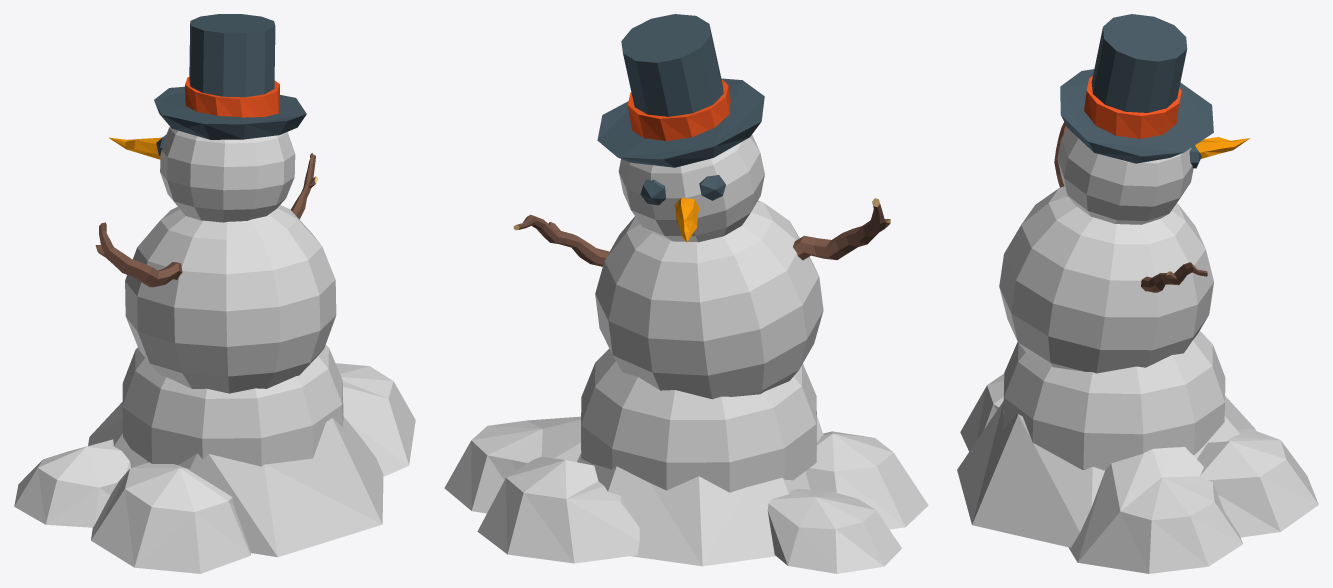
The model's file is Snowman_reference.glb.
The picture shows the model from 3 angles, left to right: view 1: azimuth 30°, elevation 25°; view 2: azimuth 150°, elevation 25°; view 3: azimuth 270°, elevation 25°; orthographic projection. The views are drawn at different scales.
Visible parts, largest first — view 1: group1820762859, group1452526837, group1379831332, group297861893, group549450731, group126700939, group1287764327, group1823866925, group1649041834, group1055717707, group18611084, group1479642564 (+1 smaller); view 2: group1820762859, group1452526837, group1994916755, group1379831332, group1287764327, group549450731, group126700939, group1823866925, group297861893, group1649041834, group1055717707, group18611084 (+2 smaller); view 3: group1820762859, group1452526837, group1823866925, group1379831332, group1994916755, group549450731, group126700939, group1649041834, group1055717707, group297861893, group921956220, group1479642564.
Boxes of the visible parts, x1,y1,x2,y2 form: group1820762859: [125, 205, 336, 393]; group1452526837: [122, 345, 343, 466]; group1379831332: [88, 402, 383, 557]; group297861893: [91, 462, 251, 573]; group549450731: [160, 127, 295, 222]; group126700939: [189, 14, 275, 97]; group1287764327: [14, 439, 130, 527]; group1823866925: [335, 363, 415, 476]; group1649041834: [154, 86, 306, 139]; group1055717707: [185, 77, 279, 117]; group18611084: [95, 222, 182, 287]; group1479642564: [109, 137, 161, 159]; group1820762859: [595, 200, 823, 399]; group1452526837: [581, 348, 816, 492]; group1994916755: [477, 456, 639, 563]; group1379831332: [577, 415, 823, 566]; group1287764327: [767, 489, 901, 573]; group549450731: [618, 135, 764, 242]; group126700939: [621, 14, 723, 116]; group1823866925: [444, 416, 581, 513]; group297861893: [806, 431, 928, 529]; group1649041834: [597, 78, 764, 167]; group1055717707: [627, 79, 730, 140]; group18611084: [793, 198, 890, 260]; group1820762859: [999, 186, 1213, 373]; group1452526837: [1003, 331, 1225, 470]; group1823866925: [1068, 447, 1242, 573]; group1379831332: [957, 396, 1255, 547]; group1994916755: [1197, 428, 1318, 537]; group549450731: [1057, 128, 1193, 224]; group126700939: [1091, 14, 1187, 112]; group1649041834: [1060, 69, 1213, 163]; group1055717707: [1084, 76, 1181, 138]; group297861893: [960, 373, 1004, 451]; group921956220: [1141, 262, 1207, 292]; group1479642564: [1195, 137, 1249, 158].
Bounding box in the file's own units: 1.07 × 1.19 × 0.8406.
